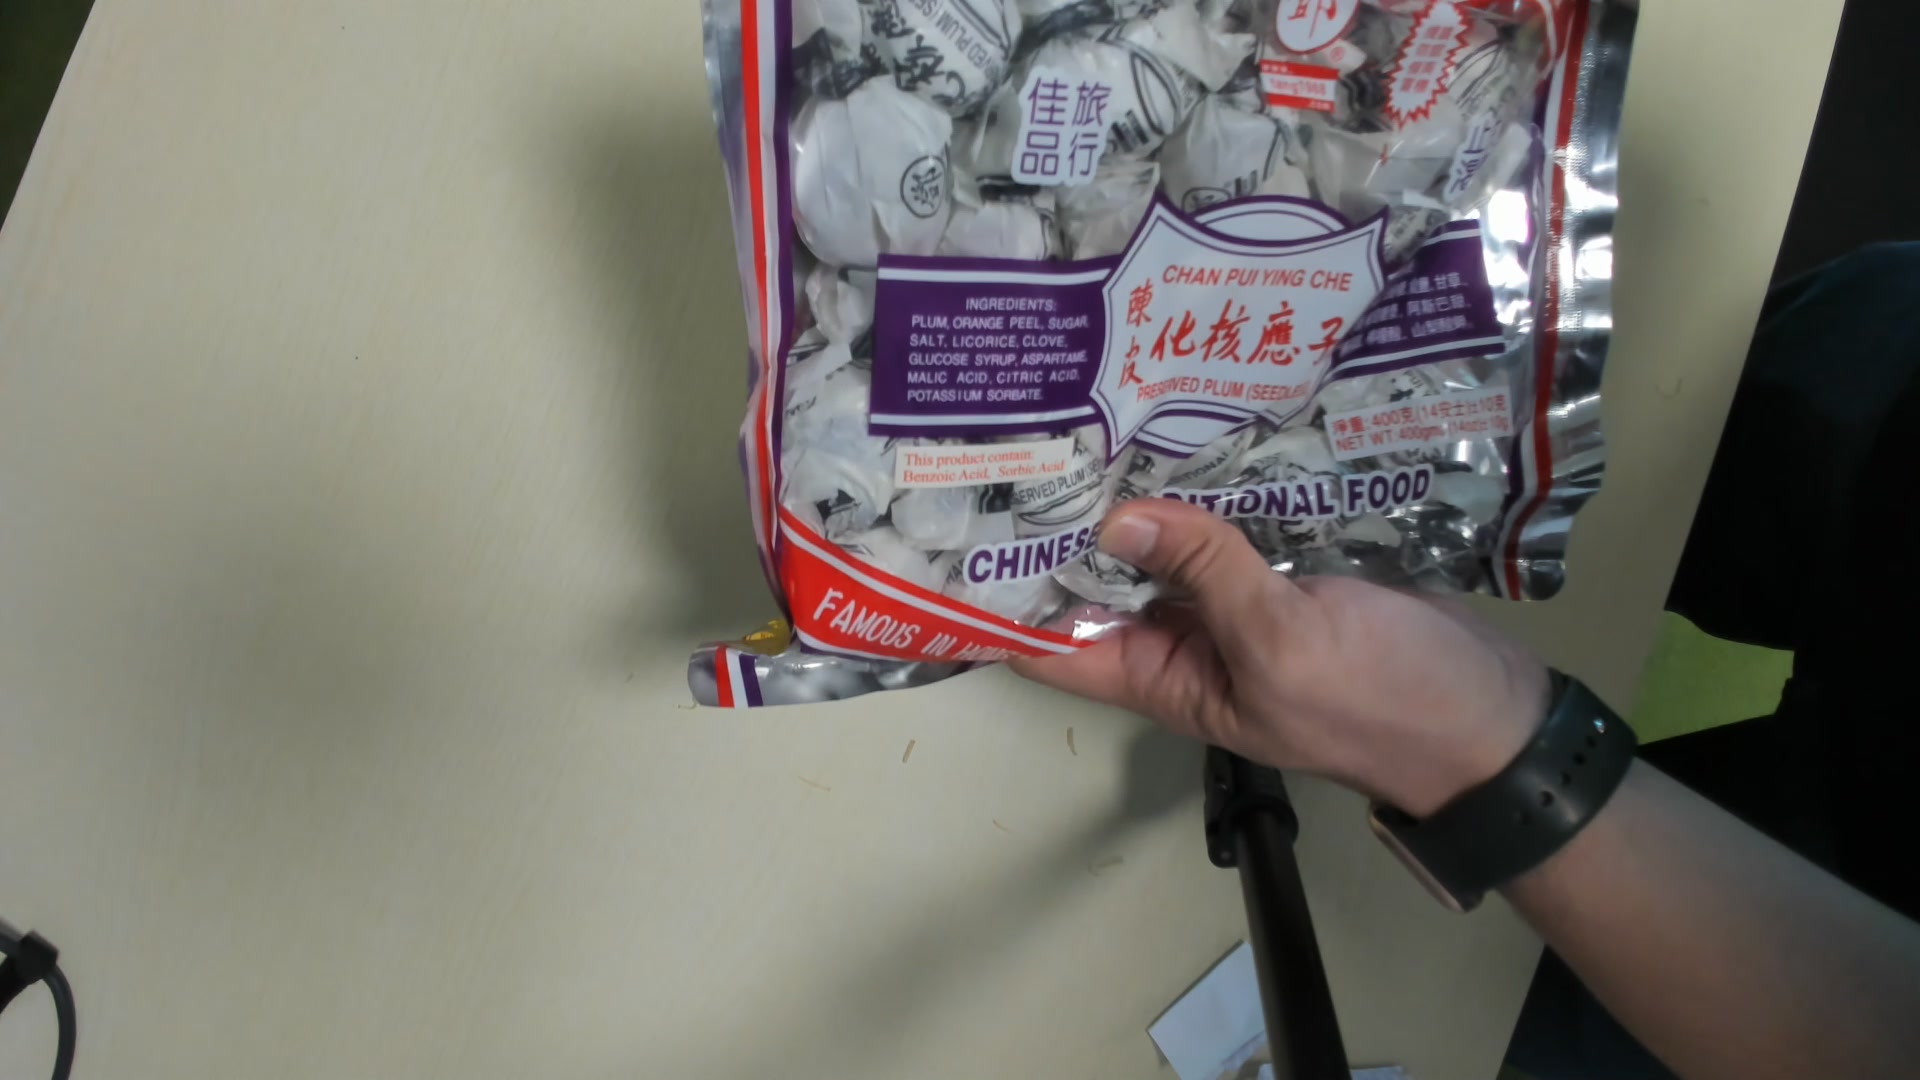SweetsChocolatesOthers_400-499g_NonHalal_Nonhealthy: (702, 9, 1634, 695)
